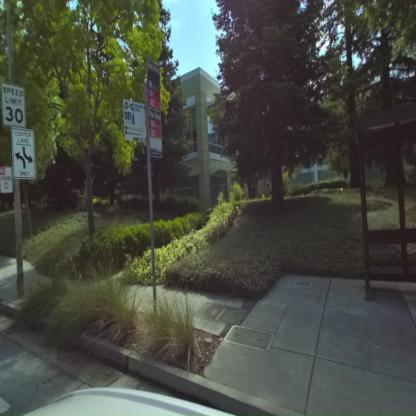sign: (1, 80, 38, 182), (121, 93, 166, 160), (147, 58, 166, 165), (0, 165, 16, 195)
